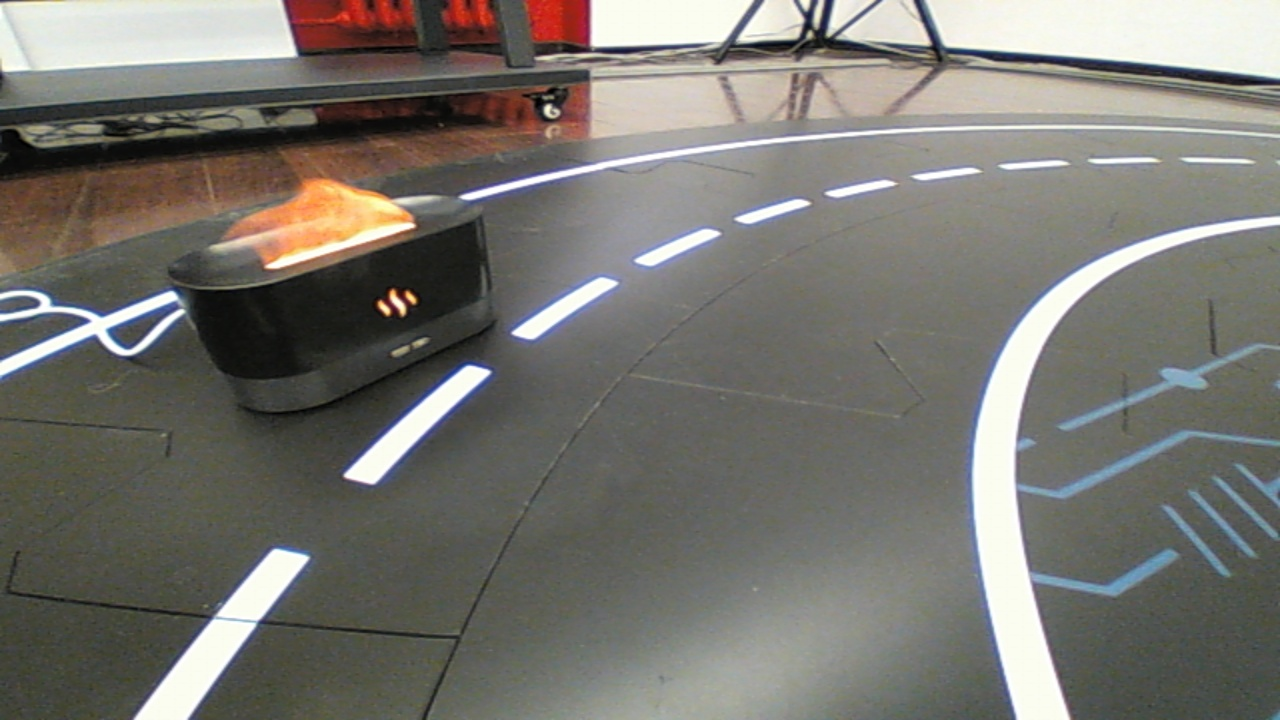Movement prohibition: (138, 172, 525, 429)
